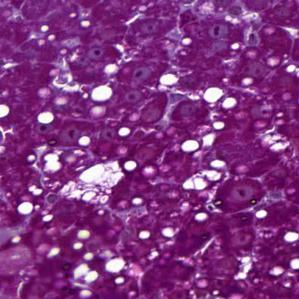ballooning: (58, 157, 128, 210)
